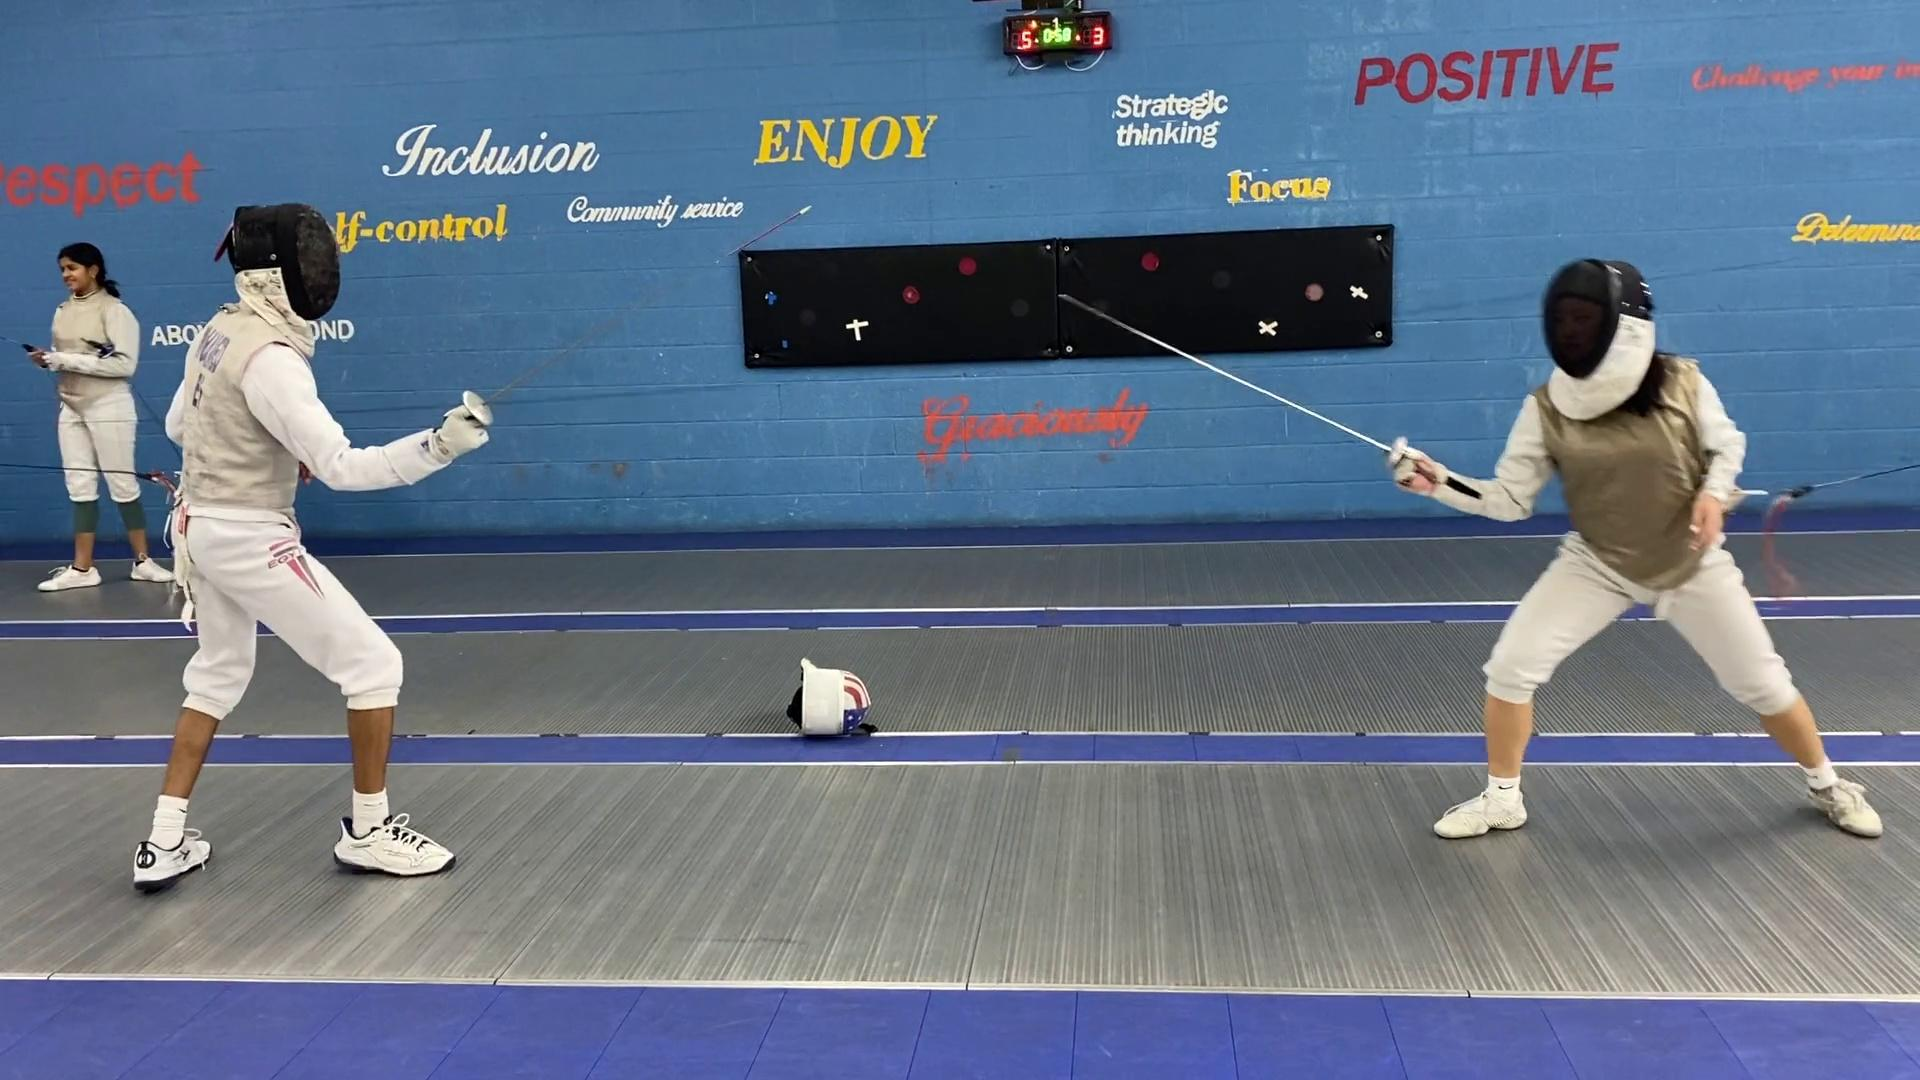blade-guard: (456, 386, 501, 430), (1379, 433, 1414, 473)
blade-tip: (719, 202, 818, 262), (1051, 286, 1135, 336)
fencing-blade: (440, 202, 819, 443), (1048, 280, 1444, 501)
